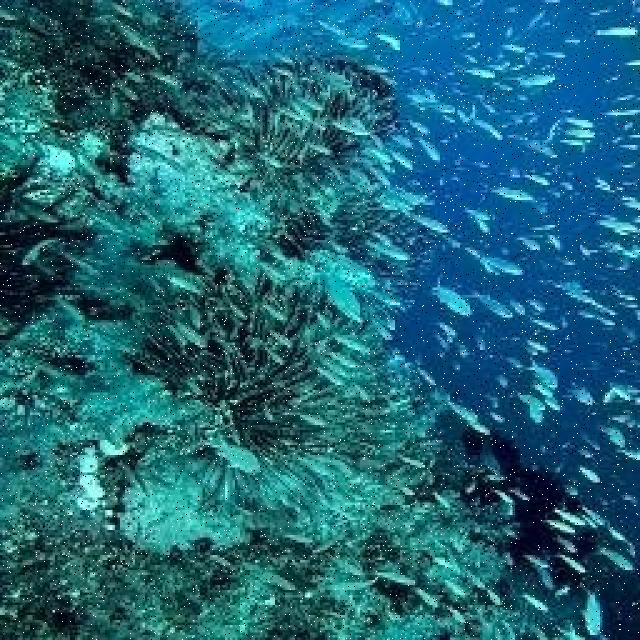fish: (429, 277, 472, 316), (465, 287, 514, 318), (579, 582, 603, 634), (592, 542, 632, 571), (521, 358, 559, 388), (480, 181, 535, 201)
reefs: (68, 259, 513, 583), (184, 62, 397, 174), (79, 114, 266, 238), (284, 203, 402, 270)
